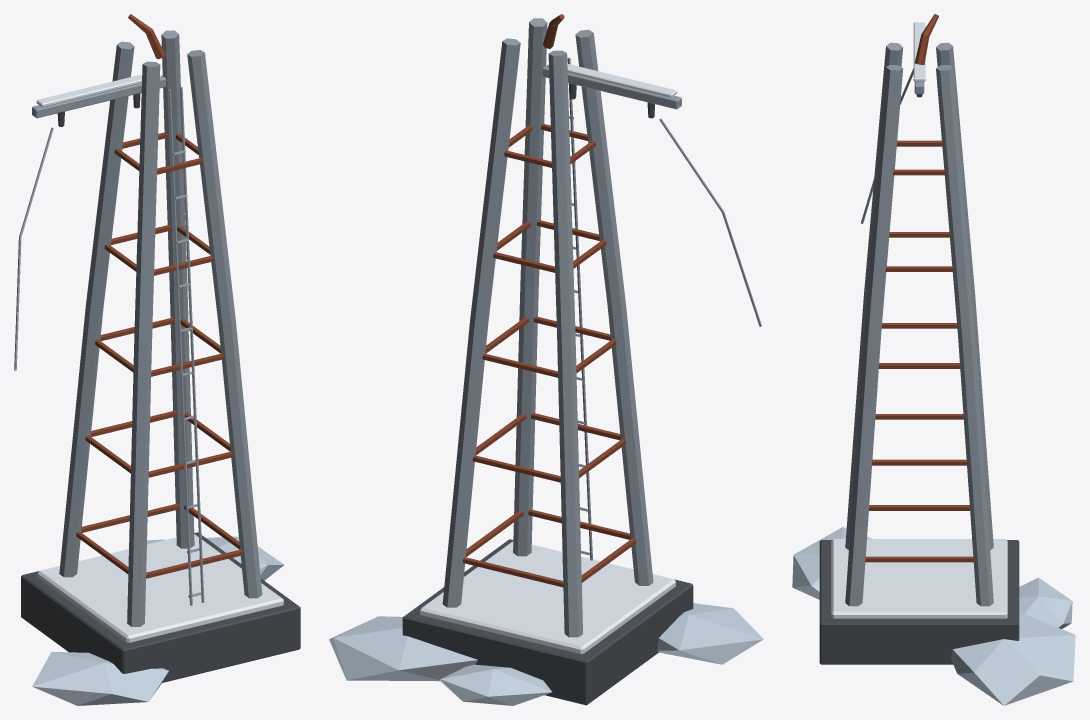
Rendered from Heritage_Pylon.fbx.
3 renders of one model, left to right at view 1: azimuth 30°, elevation 25°; view 2: azimuth 150°, elevation 25°; view 3: azimuth 270°, elevation 25°, orthographic. The views are drawn at different scales.
Parts seen in each view (by area): view 1: Heritage_Pylon; view 2: Heritage_Pylon; view 3: Heritage_Pylon.
Part boxes in pixels (x1,y1,x2,y2): Heritage_Pylon: (14,14,300,705); Heritage_Pylon: (329,14,763,705); Heritage_Pylon: (792,14,1075,705).
Size of the model in its own units: 2001 by 3516 by 1477.
